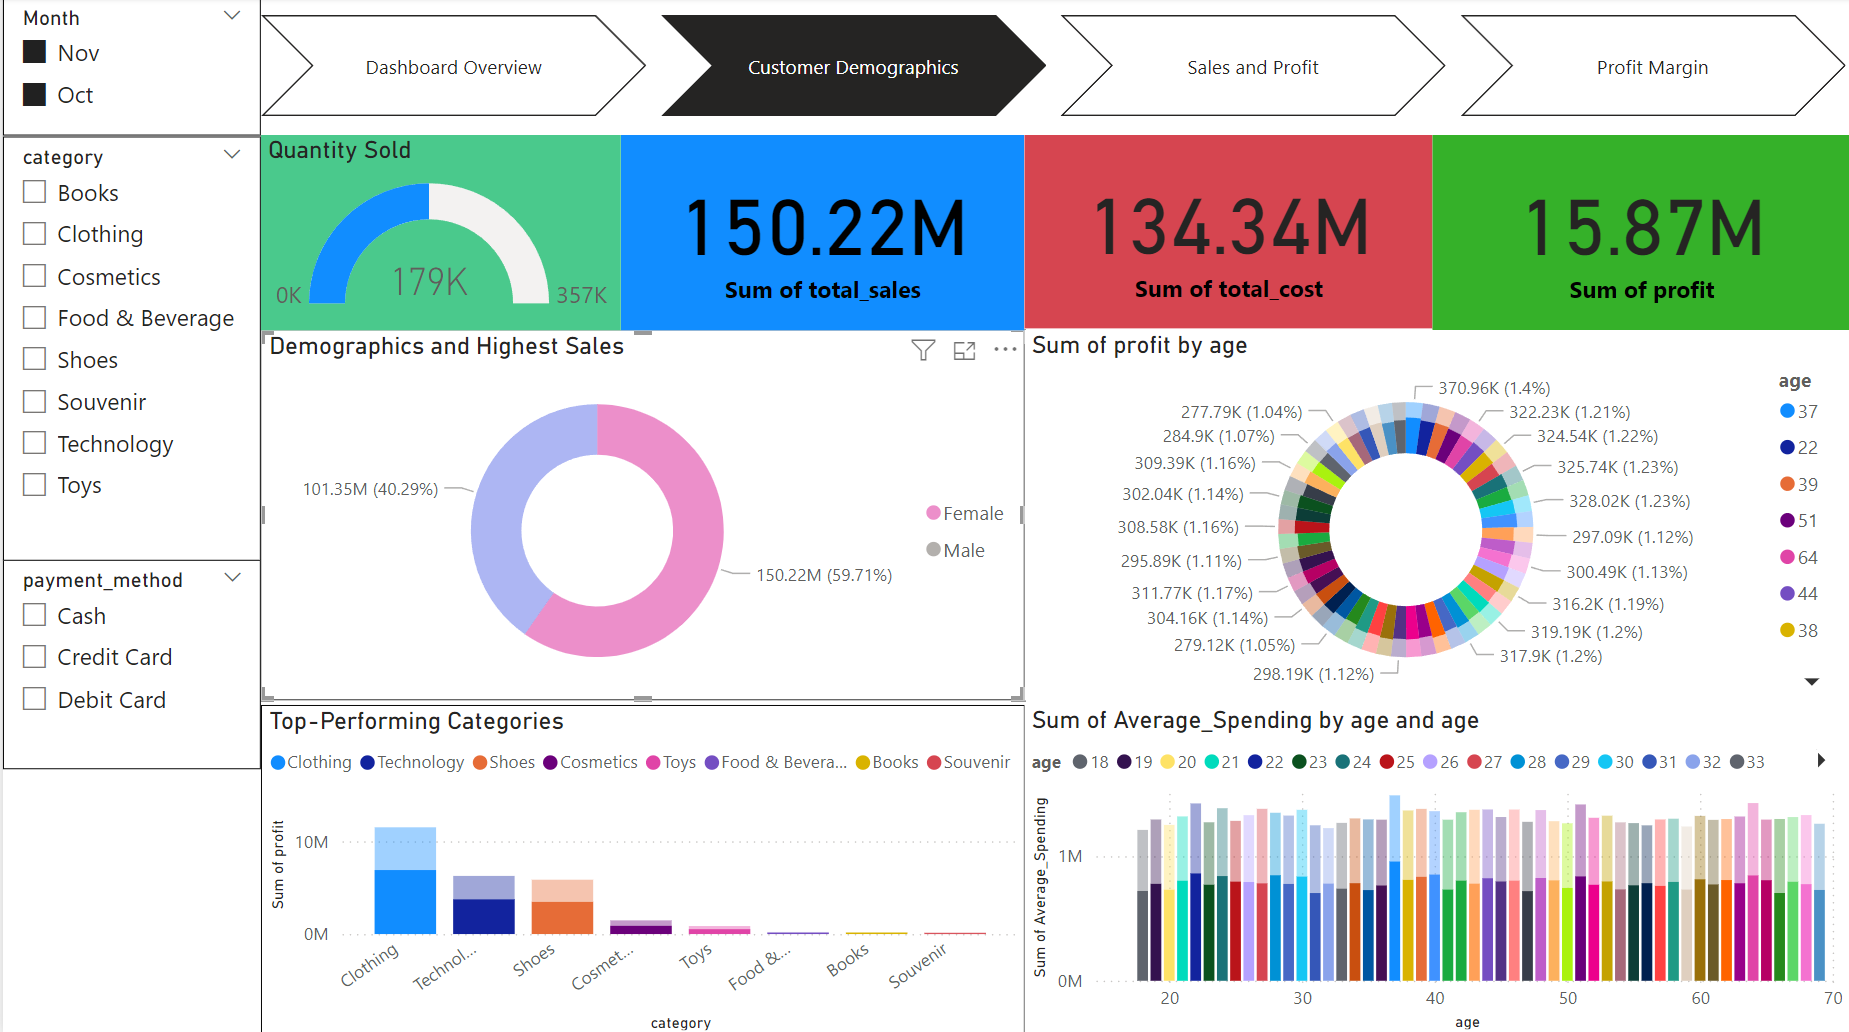

What the dashboard file says about the page in this screenshot:
{"tool":"powerbi","page":{"name":"Customer Demographics Driving the Highest Sales ","canvas":[1280,720],"ordinal":1},"visuals":[{"type":"donutChart","title":"Demographics and Highest Sales","fields":{"Category":["Table2.gender"],"Y":["Sum(Table2.total_sales)"]},"box":[178.8,134.1,529.1,308.7],"z":0},{"type":"columnChart","title":"Top-Performing Categories","fields":{"Category":["Table2.category"],"Y":["Sum(Table2.profit)"],"Series":["Table2.category"]},"box":[178.8,442.8,529.1,277.5],"z":1000},{"type":"slicer","fields":{"Values":["Table2.First Characters"]},"box":[0,0,178.4,96.2],"z":2000},{"type":"slicer","fields":{"Values":["Table2.payment_method"]},"box":[0,390.2,178.8,145.1],"z":3000},{"type":"card","fields":{"Values":["Sum(Table2.total_sales)"]},"box":[428.7,0,279.3,135.6],"z":4000},{"type":"card","fields":{"Values":["Sum(Table2.total_cost)"]},"box":[708,1.2,282.7,134.4],"z":5000},{"type":"card","fields":{"Values":["Sum(Table2.profit)"]},"box":[990.3,0,289.7,135.6],"z":6000},{"type":"slicer","fields":{"Values":["Table2.category"]},"box":[0,96.2,178.4,294.3],"z":7000},{"type":"gauge","title":"Quantity Sold","fields":{"Y":["Sum(Table2.quantity)"]},"box":[178.4,0,250.3,135.6],"z":8000},{"type":"donutChart","fields":{"Category":["Table2.age"],"Y":["Sum(Table2.profit)"]},"box":[707.9,135.1,571.7,307.7],"z":9000},{"type":"columnChart","fields":{"Category":["Table2.age"],"Y":["Sum(Table2.Average_Spending)"],"Series":["Table2.age"]},"box":[707.9,442.8,571.7,277.5],"z":10000}]}

Visuals, with their boxes on the page's 1280x720 design canvas (x1, y1, x2, y2). These are canvas units, not pixel positions in the 1849x1032 screenshot, which may show the page scaled, cropped or inside an application window:
"Demographics and Highest Sales" donutChart: bbox=(179, 134, 708, 443)
"Top-Performing Categories" columnChart: bbox=(179, 443, 708, 720)
slicer - Table2.First Characters: bbox=(0, 0, 178, 96)
slicer - Table2.payment_method: bbox=(0, 390, 179, 535)
card - Sum(Table2.total_sales): bbox=(429, 0, 708, 136)
card - Sum(Table2.total_cost): bbox=(708, 1, 991, 136)
card - Sum(Table2.profit): bbox=(990, 0, 1280, 136)
slicer - Table2.category: bbox=(0, 96, 178, 390)
"Quantity Sold" gauge: bbox=(178, 0, 429, 136)
donutChart - Table2.age x Sum(Table2.profit): bbox=(708, 135, 1280, 443)
columnChart - Table2.age x Sum(Table2.Average_Spending): bbox=(708, 443, 1280, 720)
